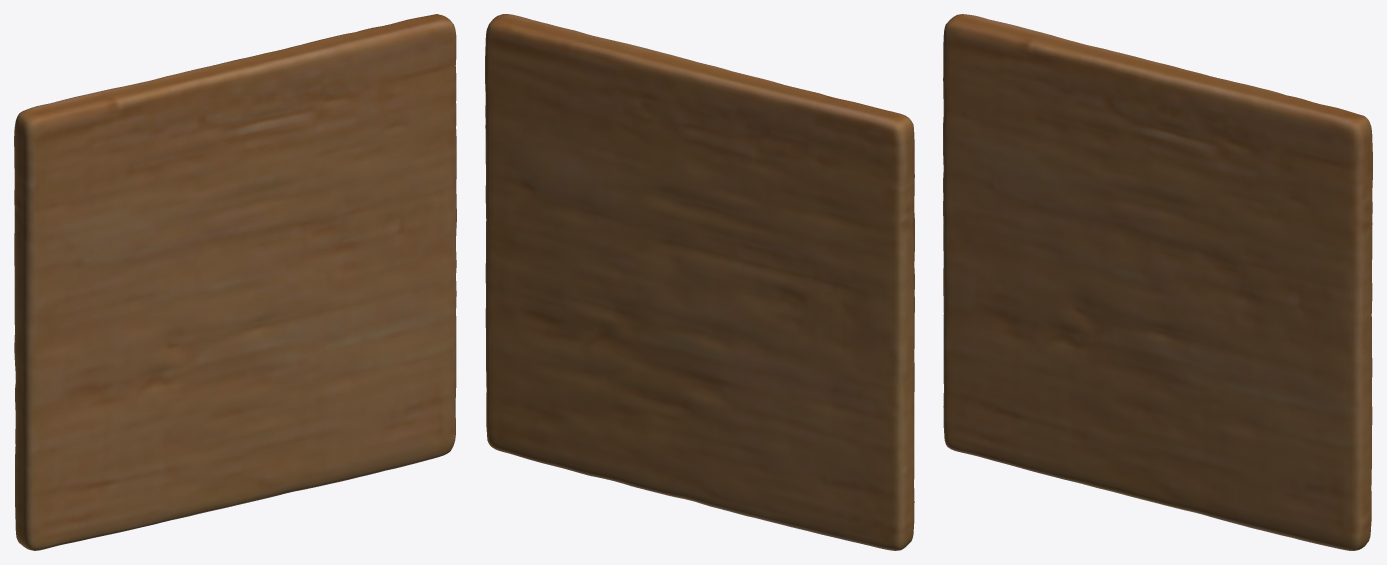
File: c492b9c9e819_WOODEN_BOARD__3d_as.fbx
3 renders of one model, left to right at view 1: azimuth 30°, elevation 25°; view 2: azimuth 150°, elevation 25°; view 3: azimuth 330°, elevation 25°, orthographic.
Parts seen in each view (by area): view 1: mesh; view 2: mesh; view 3: mesh.
Boxes of the visible parts, <box> form: mesh: <box>14,14,456,550</box>; mesh: <box>485,14,914,550</box>; mesh: <box>943,14,1372,550</box>.
Bounding box in the file's own units: 99.98 × 97.34 × 8.62.
